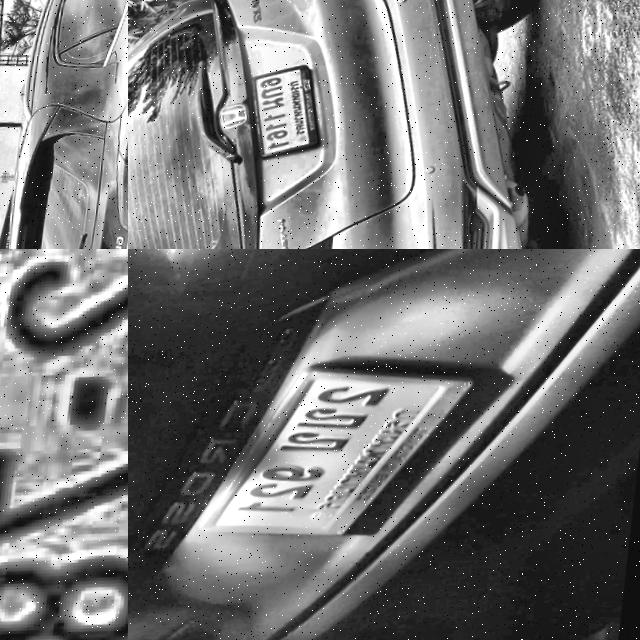license-plate: (192, 352, 490, 564), (0, 249, 128, 640), (240, 62, 332, 171)
